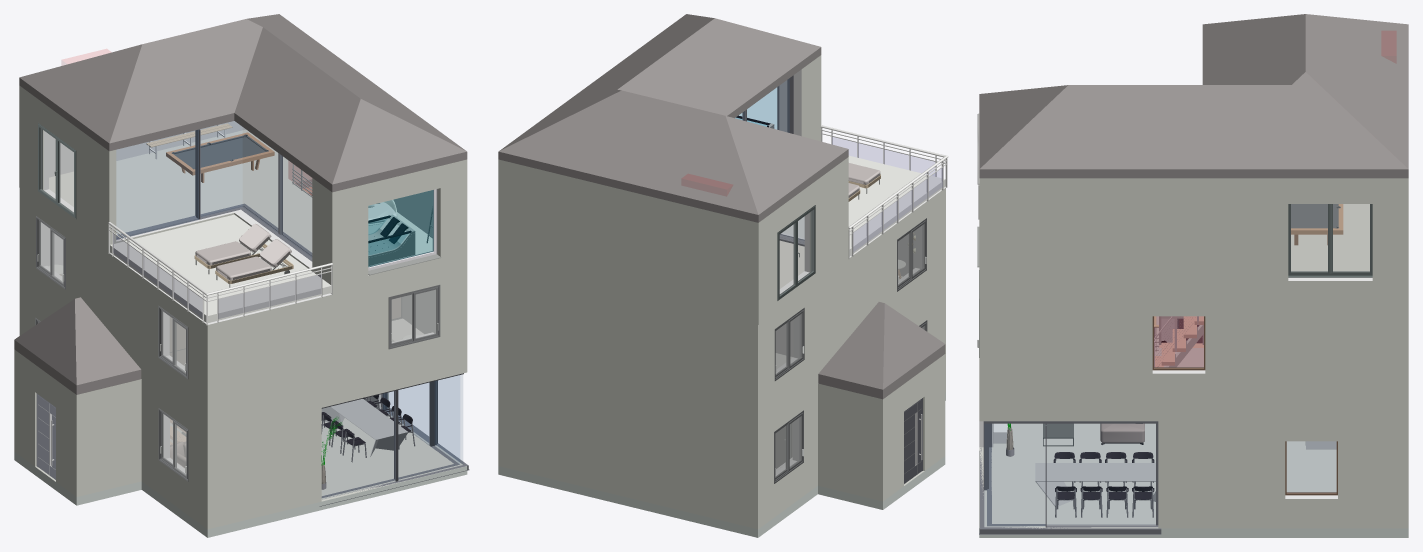
The model's file is house.glb.
3 renders of one model, left to right at view 1: azimuth 30°, elevation 25°; view 2: azimuth 150°, elevation 25°; view 3: azimuth 270°, elevation 25°, orthographic. The views are drawn at different scales.
Parts seen in each view (by area): view 1: Wall Murs <259823 Ext. Parpaing 20 + Isolant 10<, FamilyInstance Portes Porte 2 <275085 900 x 2100 mm<; view 2: Wall Murs <259823 Ext. Parpaing 20 + Isolant 10<, FamilyInstance Portes Porte 2 <275085 900 x 2100 mm<; view 3: Wall Murs <259823 Ext. Parpaing 20 + Isolant 10<, FamilyInstance Portes Porte 2 <275085 900 x 2100 mm<.
Part boxes in pixels (<box>): Wall Murs <259823 Ext. Parpaing 20 + Isolant 10<: <box>14,14,469,537</box>; FamilyInstance Portes Porte 2 <275085 900 x 2100 mm<: <box>40,129,460,475</box>; Wall Murs <259823 Ext. Parpaing 20 + Isolant 10<: <box>498,14,948,537</box>; FamilyInstance Portes Porte 2 <275085 900 x 2100 mm<: <box>735,87,942,477</box>; Wall Murs <259823 Ext. Parpaing 20 + Isolant 10<: <box>977,14,1408,537</box>; FamilyInstance Portes Porte 2 <275085 900 x 2100 mm<: <box>1154,204,1369,367</box>.
Size of the model in its own units: 10.09 by 10.87 by 10.05.
Materials: 2 (2 with a texture image).
